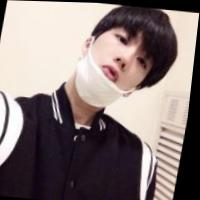WRONG: (69, 14, 169, 108)
